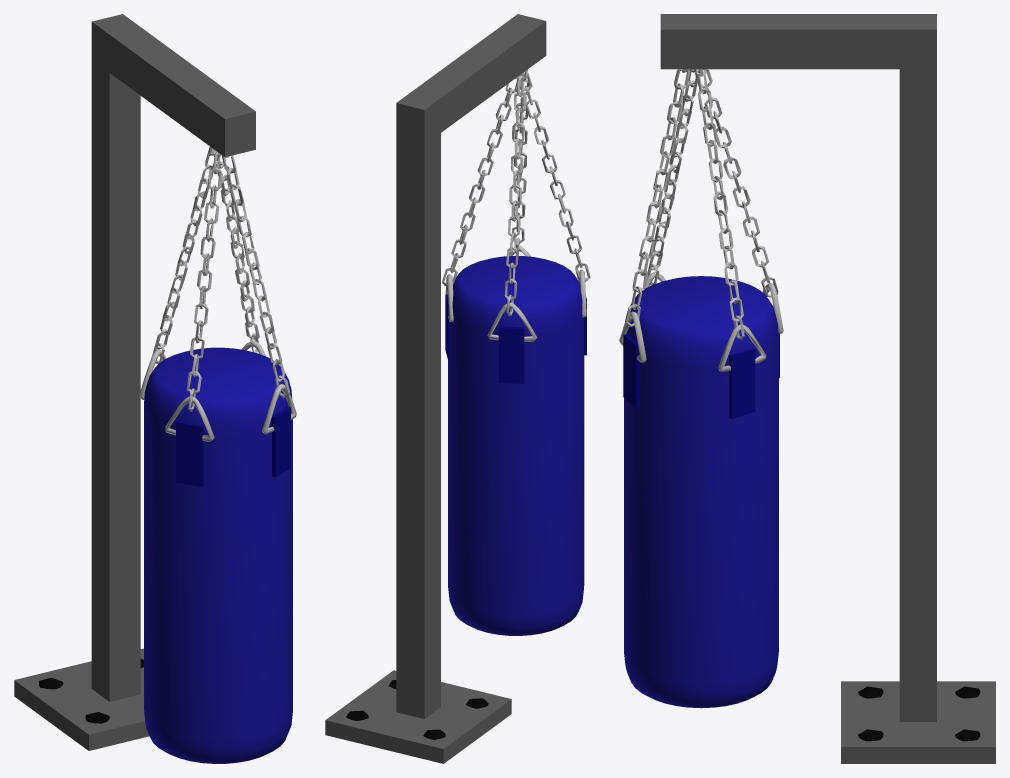
File: punching bag.fbx
3 renders of one model, left to right at view 1: azimuth 30°, elevation 25°; view 2: azimuth 150°, elevation 25°; view 3: azimuth 270°, elevation 25°, orthographic. The views are drawn at different scales.
Visible parts, largest first — view 1: bag, stand; view 2: bag, stand; view 3: bag, stand.
Part boxes in pixels (x1,y1,x2,y2): bag: (139,146,296,763); stand: (14,14,255,750); bag: (442,69,590,635); stand: (325,14,546,763); bag: (619,69,783,708); stand: (660,14,995,763).
Size of the model in its own units: 205 by 1009 by 486.
